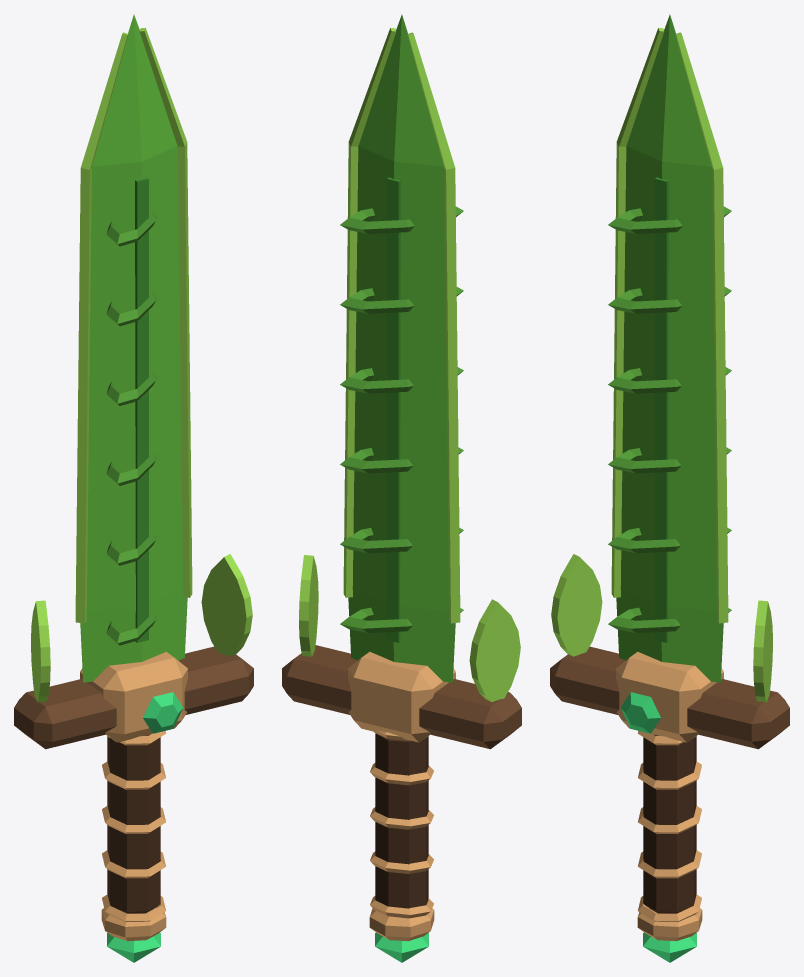
Rendered from NatureSword.fbx.
3 views of the same model, side by side, from view 1: azimuth 30°, elevation 25°; view 2: azimuth 150°, elevation 25°; view 3: azimuth 330°, elevation 25° (orthographic).
Parts seen in each view (by area): view 1: NatureSword; view 2: NatureSword; view 3: NatureSword.
Boxes of the visible parts, x1,y1,x2,y2 form: NatureSword: (14,14,253,962); NatureSword: (282,14,521,962); NatureSword: (550,14,789,962).
Size of the model in its own units: 1.3 by 5.35 by 0.5726.
1 material, 1 textured.
